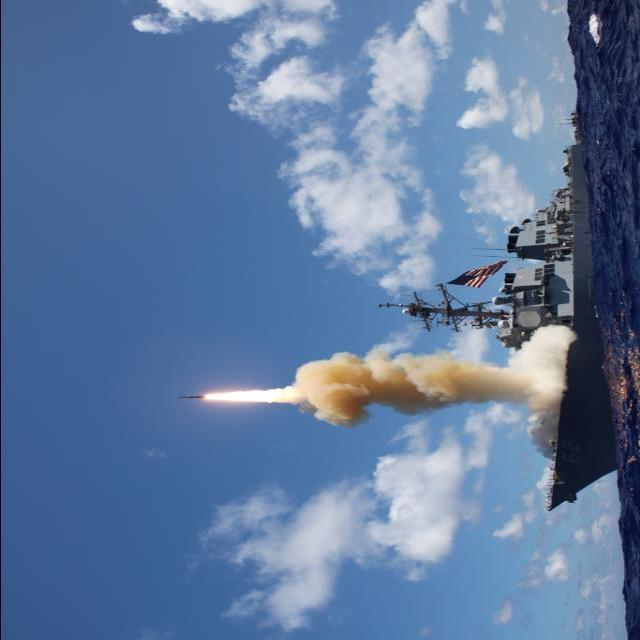Missile: (172, 394, 206, 400)
